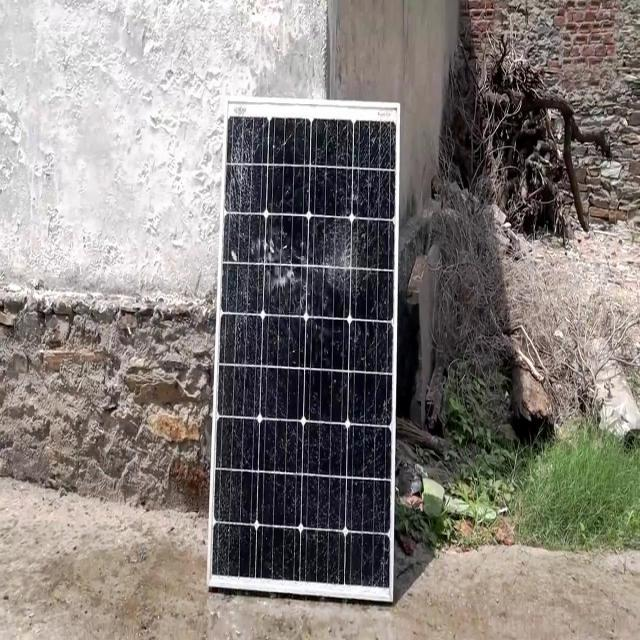faulty: (208, 97, 400, 603)
